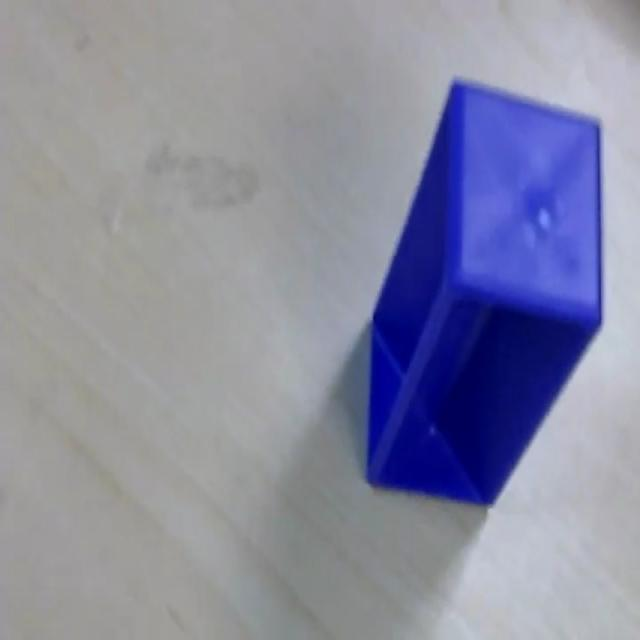blue_block: (364, 73, 605, 508)
